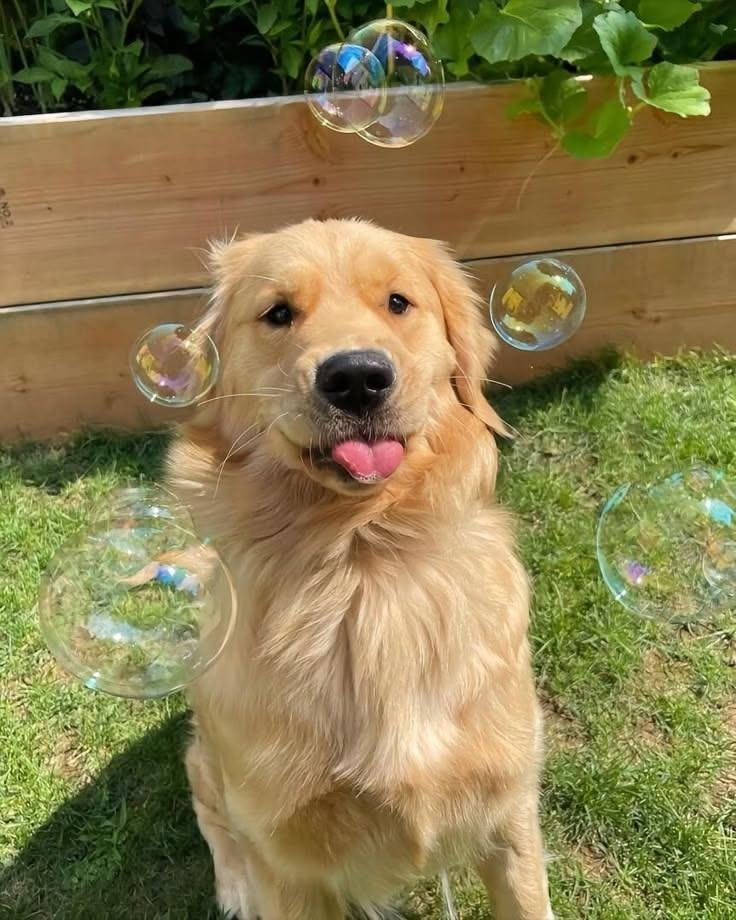adult_dog: (144, 219, 555, 920)
